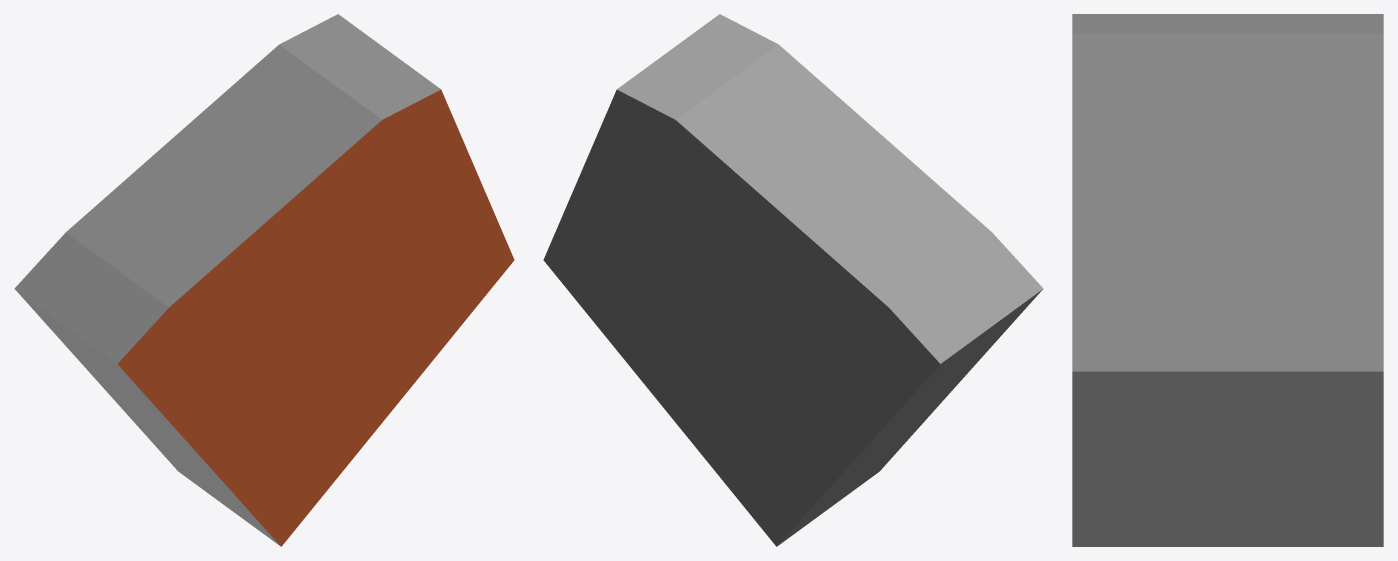
Rendered from construction_7261_assumed_A_Ruinas_h6m.obj.
3 views of the same model, side by side, from view 1: azimuth 30°, elevation 25°; view 2: azimuth 150°, elevation 25°; view 3: azimuth 270°, elevation 25° (orthographic). The views are drawn at different scales.
Visible parts, largest first — view 1: construction_7261_assumed_A_Ruinas; view 2: construction_7261_assumed_A_Ruinas; view 3: construction_7261_assumed_A_Ruinas.
Boxes of the visible parts, x1,y1,x2,y2 form: construction_7261_assumed_A_Ruinas: [14, 14, 514, 546]; construction_7261_assumed_A_Ruinas: [543, 14, 1043, 546]; construction_7261_assumed_A_Ruinas: [1072, 14, 1383, 546].
Size of the model in its own units: 13.35 by 13.44 by 6.
